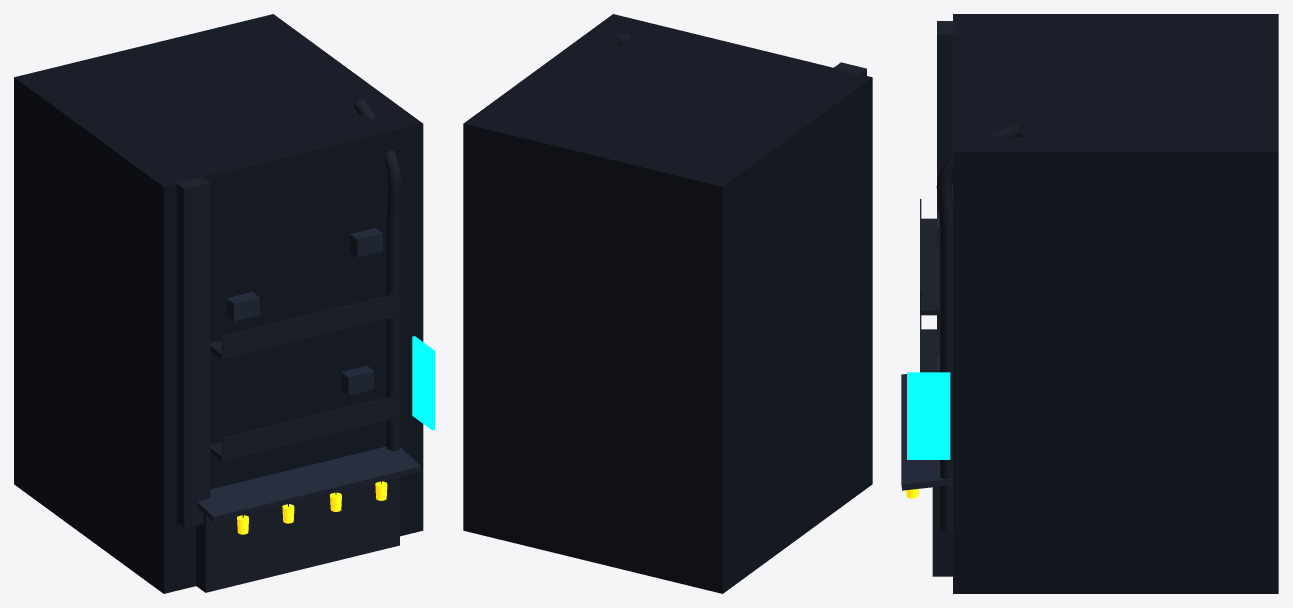
File: building_industrial_block.glb
3 views of the same model, side by side, from view 1: azimuth 30°, elevation 25°; view 2: azimuth 150°, elevation 25°; view 3: azimuth 270°, elevation 25° (orthographic). The views are drawn at different scales.
Visible parts, largest first — view 1: BuildingIndustrialBlock; view 2: BuildingIndustrialBlock; view 3: BuildingIndustrialBlock.
Boxes of the visible parts, bbox=[...] form: BuildingIndustrialBlock: bbox=[14, 14, 434, 593]; BuildingIndustrialBlock: bbox=[463, 14, 872, 593]; BuildingIndustrialBlock: bbox=[901, 14, 1278, 593].
Size of the model in its own units: 12 by 18.45 by 13.91.
